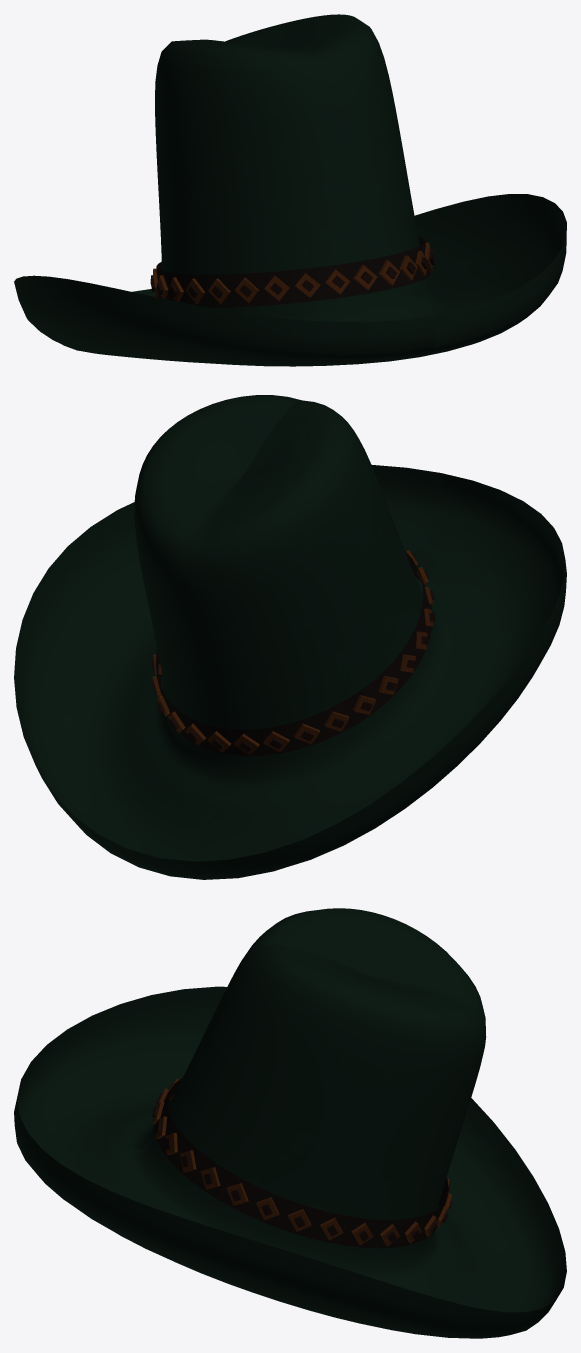
Rendered from hat.rattler-band.gltf.
The picture shows the model from 3 angles, top to bottom: view 1: azimuth 30°, elevation 25°; view 2: azimuth 150°, elevation 25°; view 3: azimuth 270°, elevation 25°; orthographic projection. The views are drawn at different scales.
Visible parts, largest first — view 1: Head; view 2: Head; view 3: Head.
Part boxes in pixels (x1,y1,x2,y2): Head: [14, 14, 566, 366]; Head: [14, 395, 566, 879]; Head: [14, 908, 566, 1338].
Bounding box in the file's own units: 0.4216 × 0.3163 × 0.432.
Materials: 1 (1 with a texture image).
